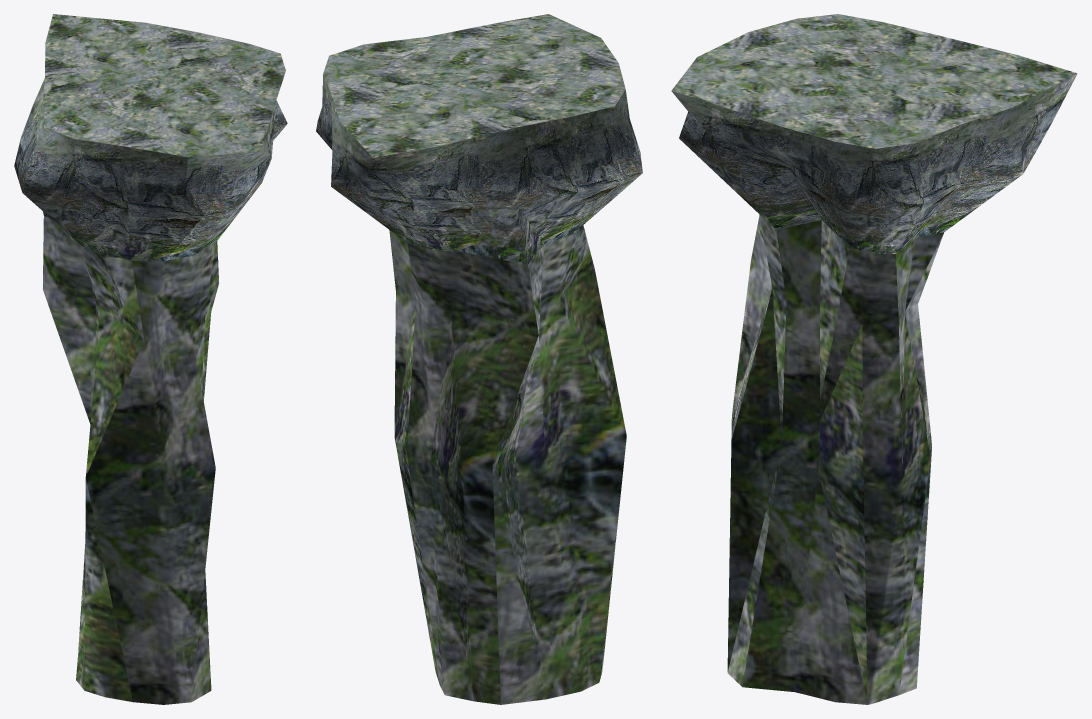
3 renders of one model, left to right at view 1: azimuth 30°, elevation 25°; view 2: azimuth 150°, elevation 25°; view 3: azimuth 270°, elevation 25°, orthographic. The views are drawn at different scales.
Visible parts, largest first — view 1: Object57; view 2: Object57; view 3: Object57.
Part boxes in pixels (x1,y1,x2,y2): Object57: (14, 14, 287, 704); Object57: (316, 14, 642, 704); Object57: (671, 14, 1077, 704).
Bounding box in the file's own units: 368 × 705 × 424.
